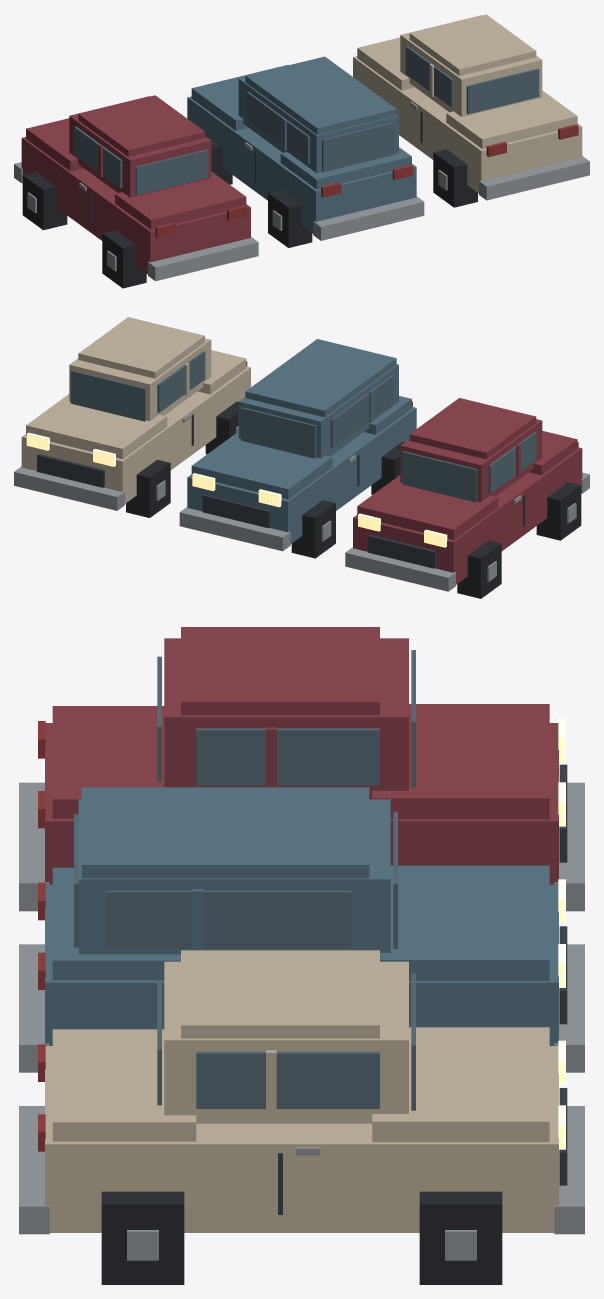
Rendered from gotham_civilian_cars.glb.
3 views of the same model, one above another, from view 1: azimuth 30°, elevation 25°; view 2: azimuth 150°, elevation 25°; view 3: azimuth 270°, elevation 25° (orthographic). The views are drawn at different scales.
Visible parts, largest first — view 1: Lower body, Lower body.001, Lower body cream, Hatch roof, Flat roof cream, Flat roof, Trunk, Trunk cream, Cabin core, Cabin core cream, Rear hatch glass, Hatch cabin (+17 smaller); view 2: Lower body, Lower body.001, Lower body cream, Hatch roof, Hood.001, Hood, Hood cream, Flat roof, Flat roof cream, Windshield, Windshield cream, Windshield.001 (+21 smaller); view 3: Lower body cream, Hatch roof, Hood.001, Flat roof, Flat roof cream, Hood cream, Hood, Lower body.001, Cabin core cream, Side windows.003, Trunk cream, Hatch cabin (+16 smaller).
Boxes of the visible parts, x1,y1,x2,y2 form: Lower body: (21, 137, 250, 274); Lower body.001: (187, 96, 416, 233); Lower body cream: (353, 56, 582, 193); Hatch roof: (245, 56, 396, 134); Flat roof cream: (409, 14, 536, 75); Flat roof: (78, 95, 204, 156); Trunk: (115, 171, 246, 229); Trunk cream: (446, 90, 577, 148); Cabin core: (69, 96, 211, 197); Cabin core cream: (400, 15, 542, 116); Rear hatch glass: (322, 122, 394, 172); Hatch cabin: (238, 77, 398, 173); Lower body: (353, 447, 582, 584); Lower body.001: (187, 407, 416, 543); Lower body cream: (21, 366, 250, 503); Hatch roof: (245, 339, 396, 417); Hood.001: (191, 433, 332, 499); Hood: (357, 475, 498, 539); Hood cream: (26, 394, 167, 459); Flat roof: (409, 398, 536, 459); Flat roof cream: (78, 317, 204, 378); Windshield: (402, 451, 477, 502); Windshield cream: (70, 370, 145, 421); Windshield.001: (241, 407, 316, 458); Lower body cream: (45, 1046, 558, 1232); Hatch roof: (81, 787, 369, 878); Hood.001: (380, 865, 549, 980); Flat roof: (181, 627, 379, 715); Flat roof cream: (181, 950, 379, 1038); Hood cream: (372, 1027, 549, 1142); Hood: (372, 704, 549, 819); Lower body.001: (45, 884, 558, 1045); Cabin core cream: (164, 961, 408, 1123); Side windows.003: (106, 890, 350, 947); Trunk cream: (52, 1029, 196, 1141); Hatch cabin: (78, 799, 390, 954).
Bounding box in the file's own units: 3.48 × 0.8475 × 1.85.
